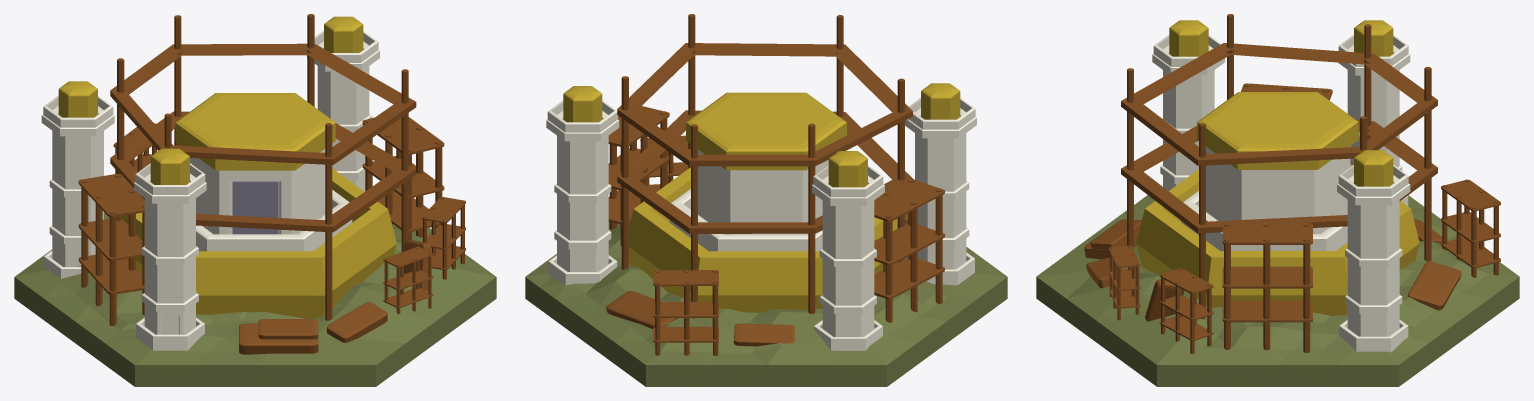
Rendered from hyperstructure_init.glb.
3 views of the same model, side by side, from view 1: azimuth 30°, elevation 25°; view 2: azimuth 150°, elevation 25°; view 3: azimuth 270°, elevation 25° (orthographic).
Visible parts, largest first — view 1: land, building; view 2: land, building; view 3: land, building.
Boxes of the visible parts, box(x1,y1,x2,y2) form: land: box(14, 14, 496, 386); building: box(58, 16, 396, 318); land: box(525, 14, 1007, 386); building: box(563, 83, 960, 312); land: box(1036, 14, 1519, 386); building: box(1136, 20, 1419, 315).
Size of the model in its own units: 1.73 by 1.04 by 2.
2 materials, 2 textured.
